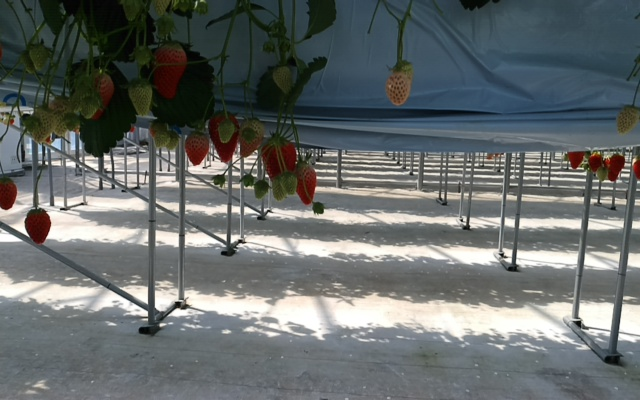GreenStrawberry: (45, 93, 79, 136), (236, 116, 265, 160), (27, 106, 58, 146), (385, 63, 413, 107), (271, 62, 301, 96), (25, 41, 54, 74), (129, 80, 153, 118), (73, 82, 98, 118), (614, 105, 640, 137), (150, 125, 169, 152), (163, 128, 179, 151), (219, 121, 234, 142)
MatureStrawberry: (140, 41, 188, 99), (74, 68, 116, 120), (260, 135, 298, 185), (206, 111, 238, 164), (23, 206, 52, 246), (296, 161, 318, 207), (184, 128, 209, 167), (1, 176, 19, 211), (272, 176, 287, 203), (281, 172, 298, 195), (253, 179, 271, 200)
